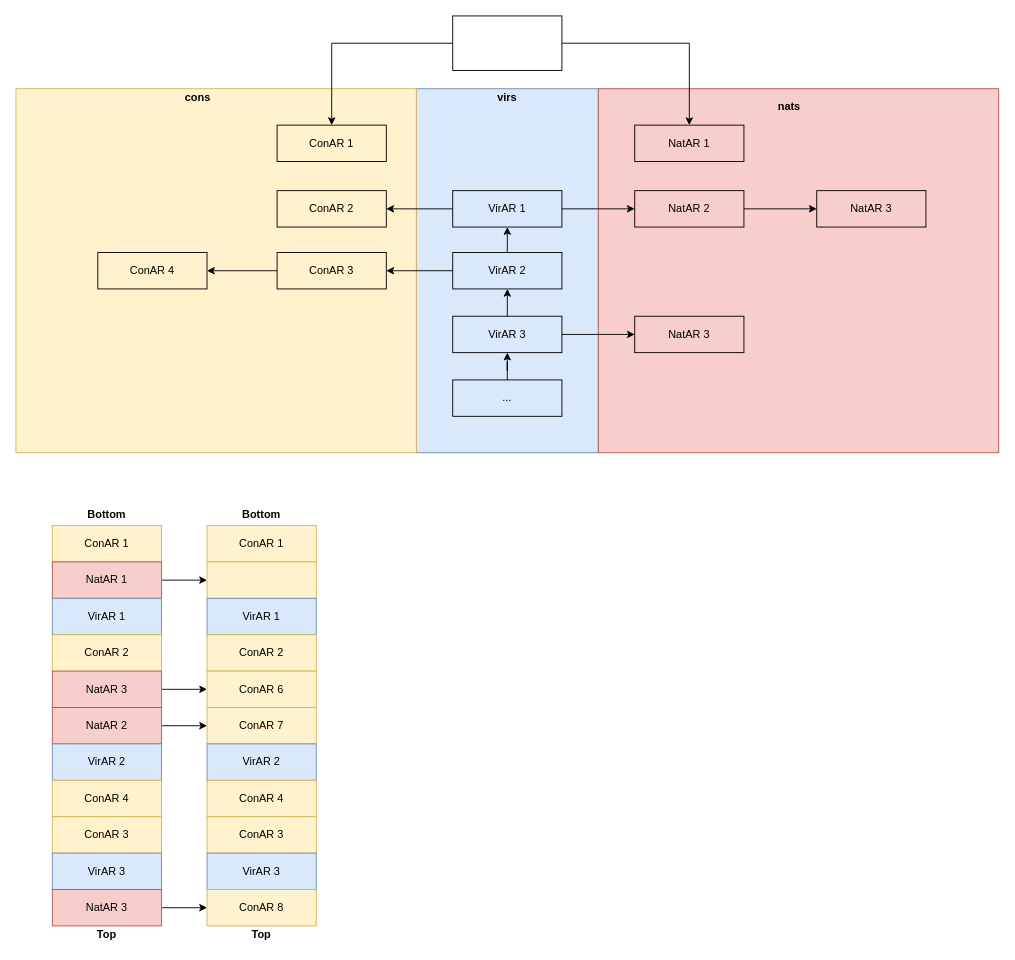
Image size: 1015x960. Some labels were removed from this diagram. Each missing label, with the centre of its shape:
ConAR 5: point 261,579
Fiber: point 507,43
